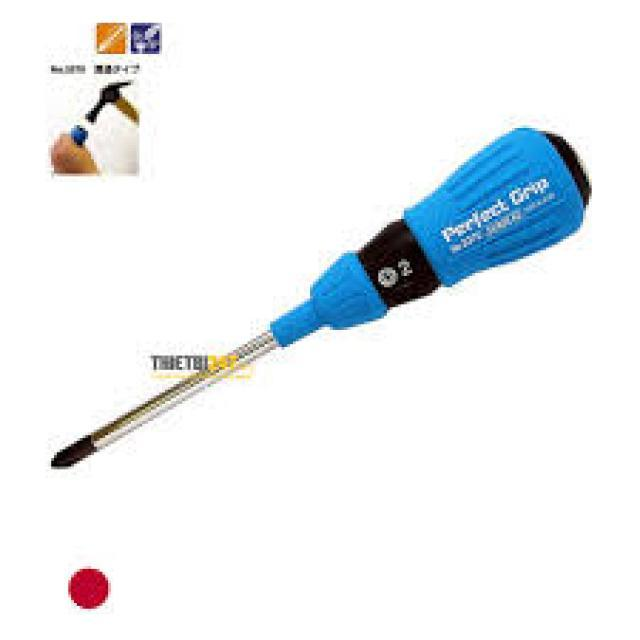screwdriver: (48, 125, 594, 475)
